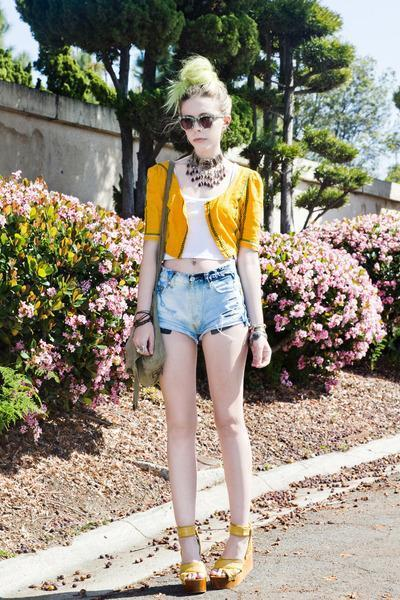bag: (118, 253, 171, 389)
jacket: (144, 163, 264, 265)
shirt: (181, 185, 213, 251)
shoe: (172, 523, 253, 580)
shorts: (150, 252, 254, 364)
